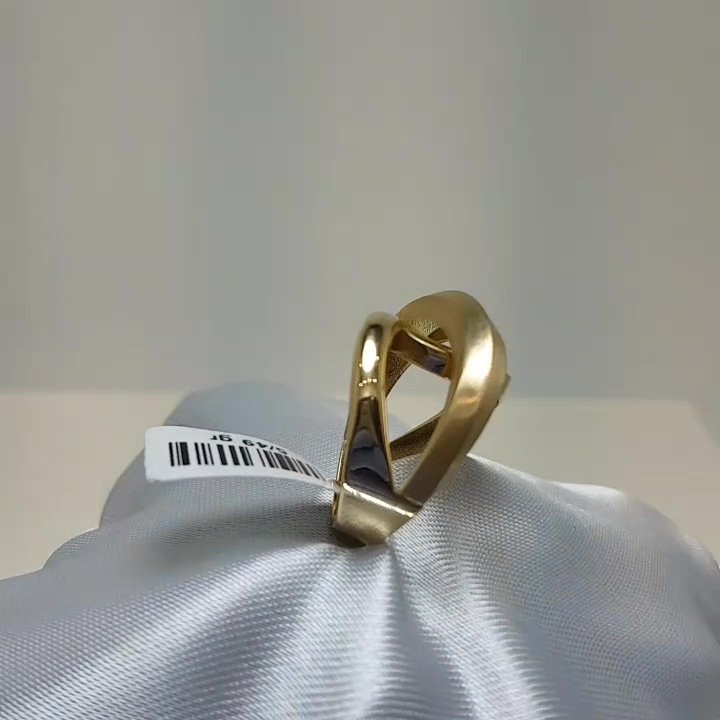Ring 3: (313, 265, 534, 559)
